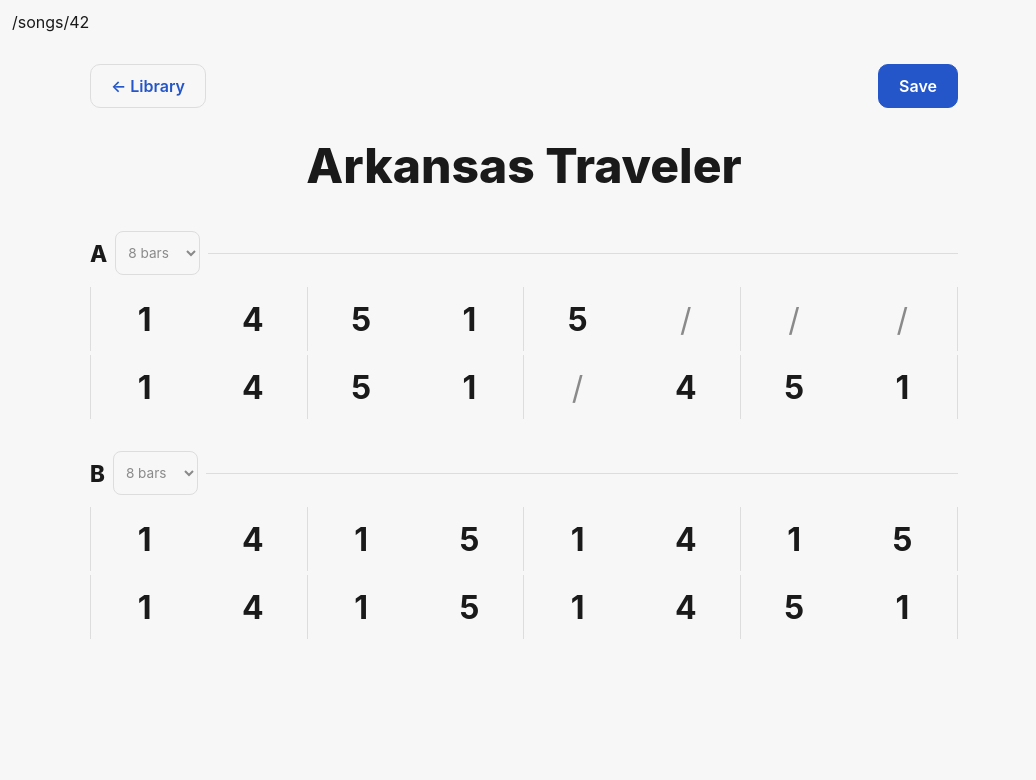
Test case: SongEditorPage — editing an existing song › saves edits made via keyboard and mouse
Replace the text in the field named "Song title" with "Renamed" at (524, 166), box [90,132,958,199]
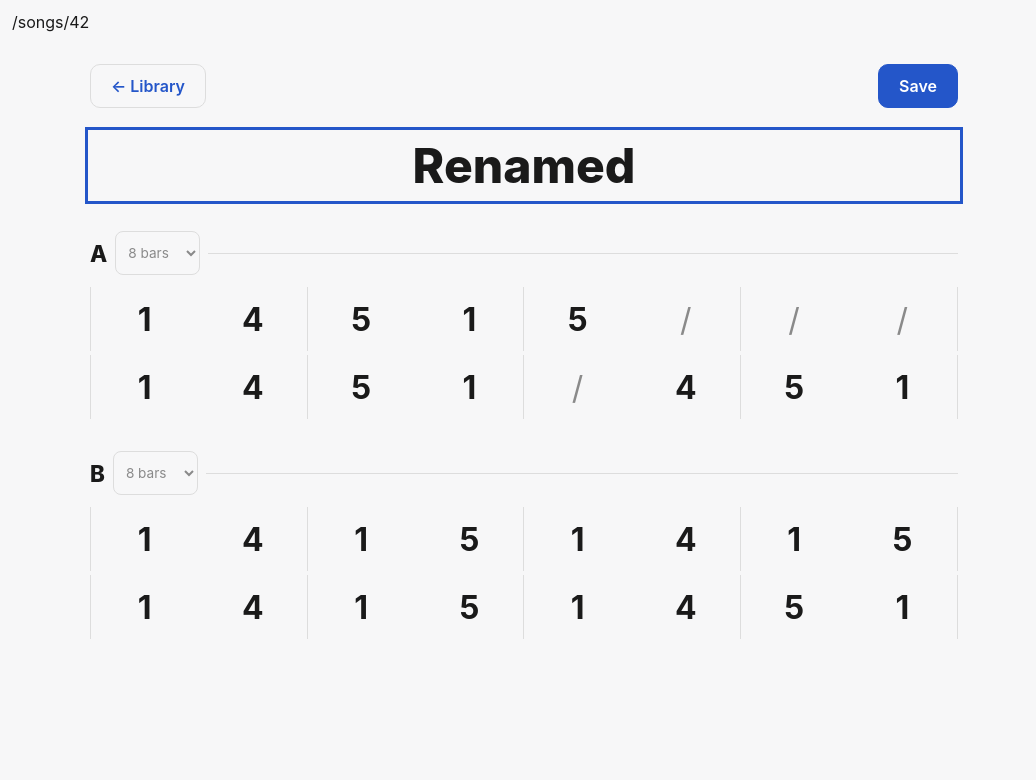
Click the button named "A Part, ending 1, measure 1, beat 1".
click(145, 319)  # box [91,287,199,351]
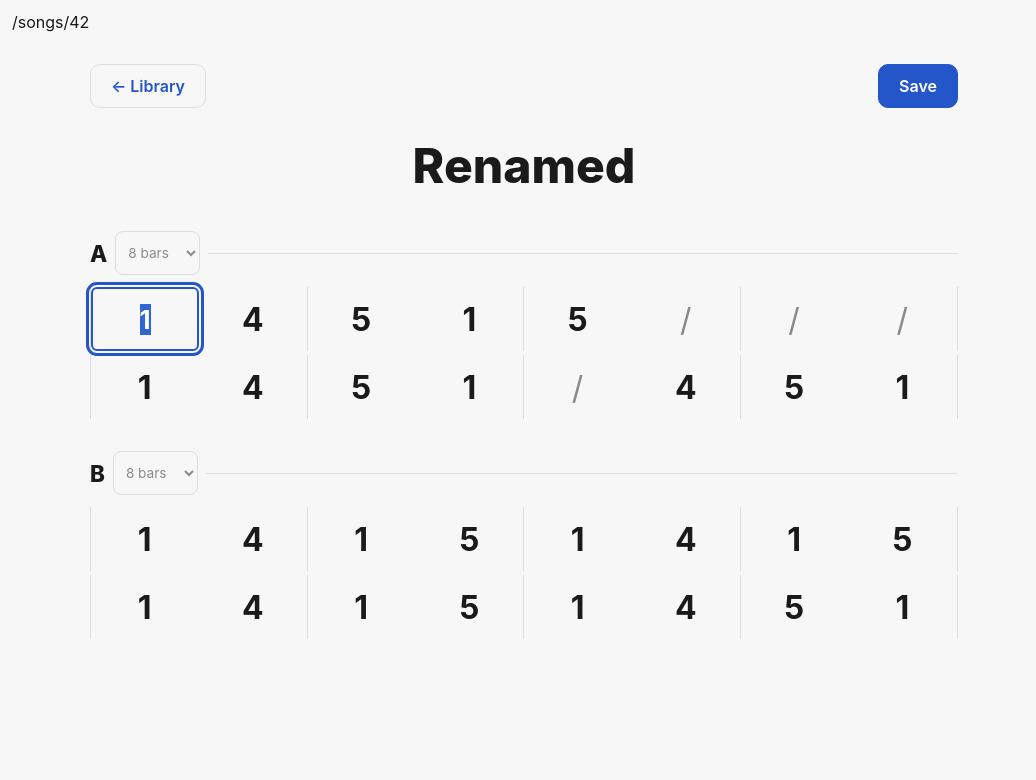
Type keys "6m{Enter}"
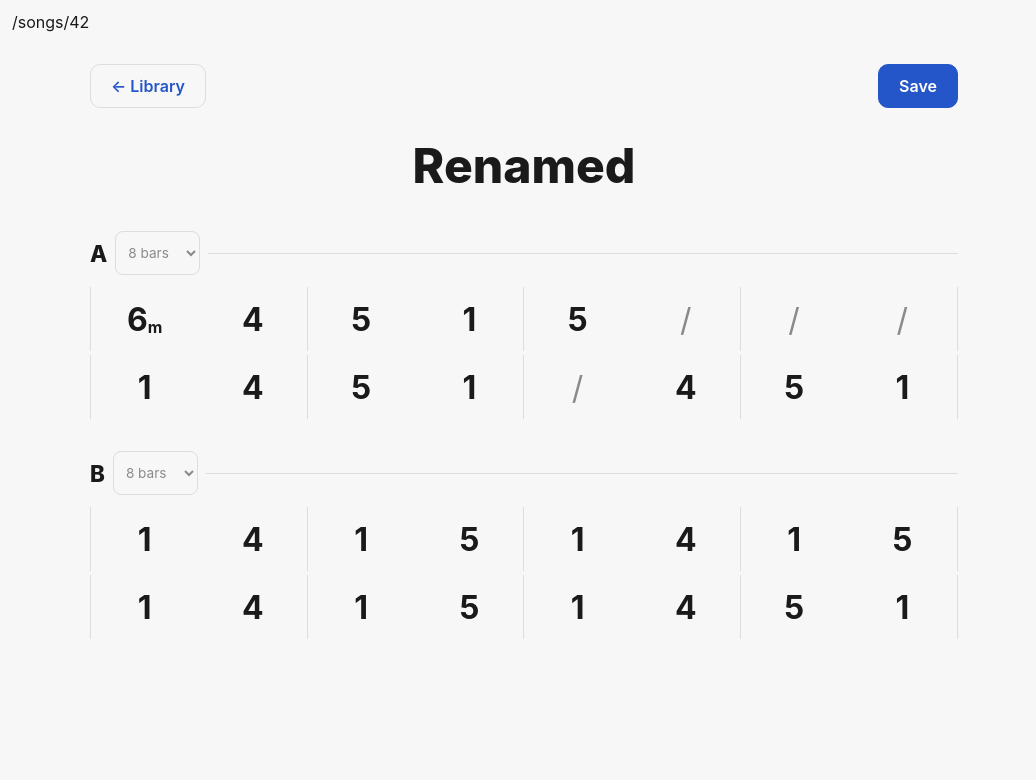
Click the button "Save".
click(918, 86)  # box [878,64,958,108]
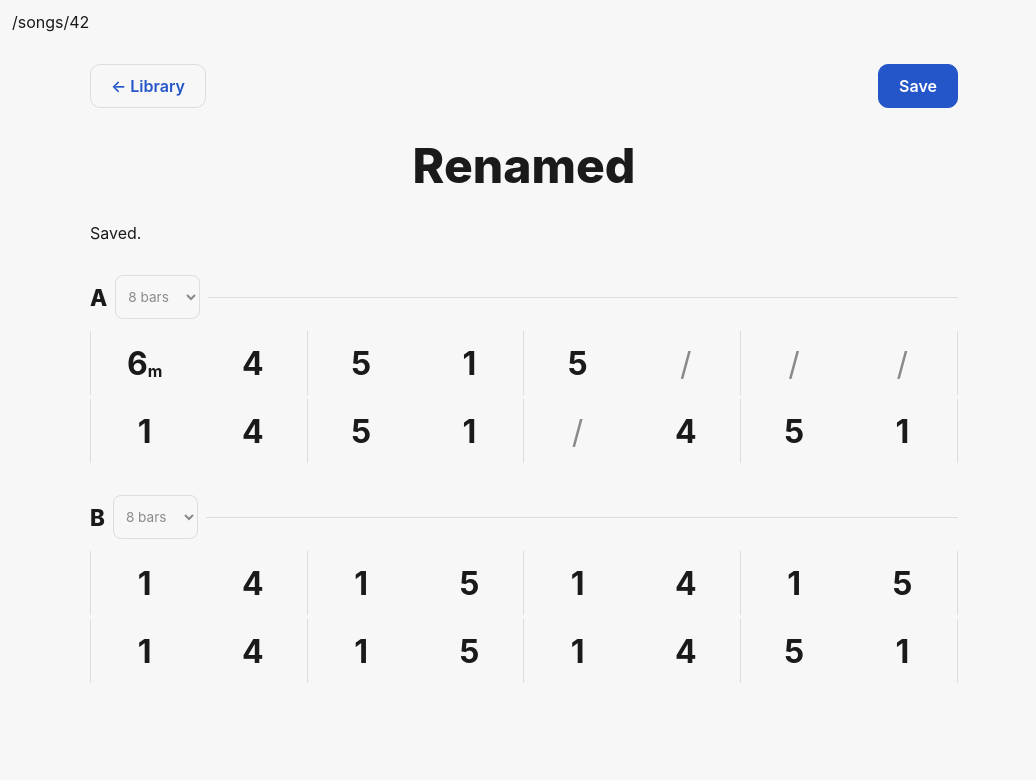
Check: the message reads "Saved.", box [90,223,141,243]
